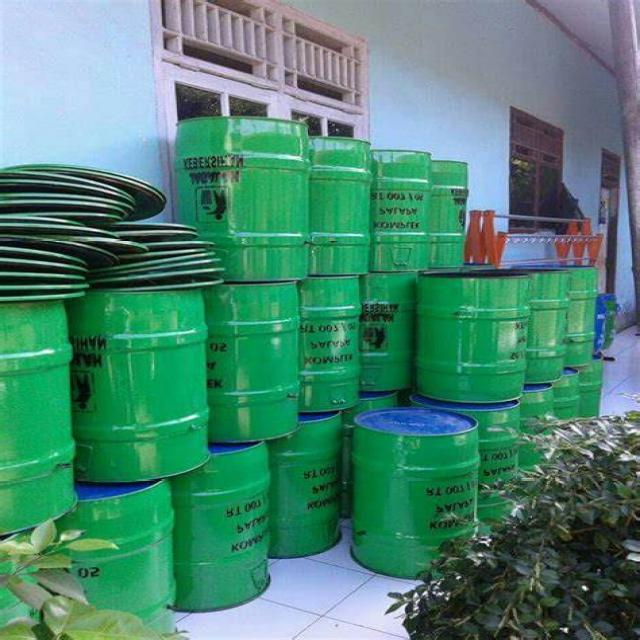garbage container: (157, 62, 318, 286), (68, 282, 215, 486), (342, 400, 480, 570), (45, 472, 169, 636), (205, 276, 318, 445), (174, 440, 274, 619), (398, 258, 522, 402), (0, 280, 67, 533), (250, 418, 344, 570), (468, 388, 548, 540), (288, 136, 372, 274), (497, 248, 580, 386), (283, 286, 364, 425), (364, 137, 439, 266), (406, 136, 476, 274)
